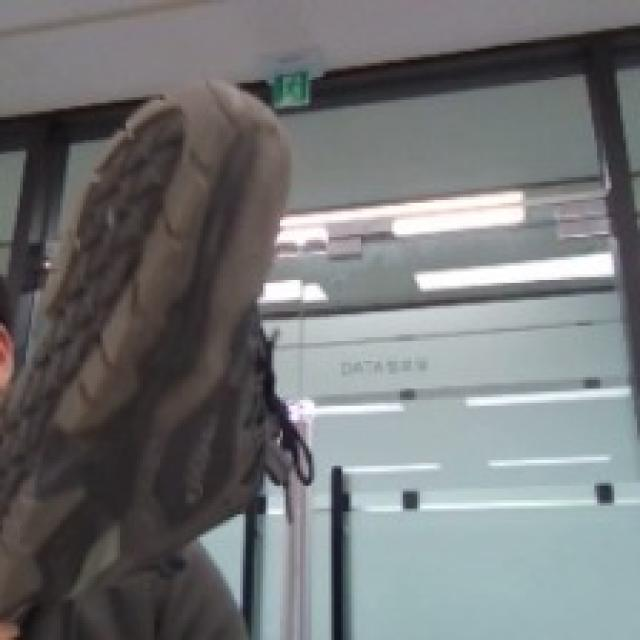shoe: (0, 54, 332, 630)
